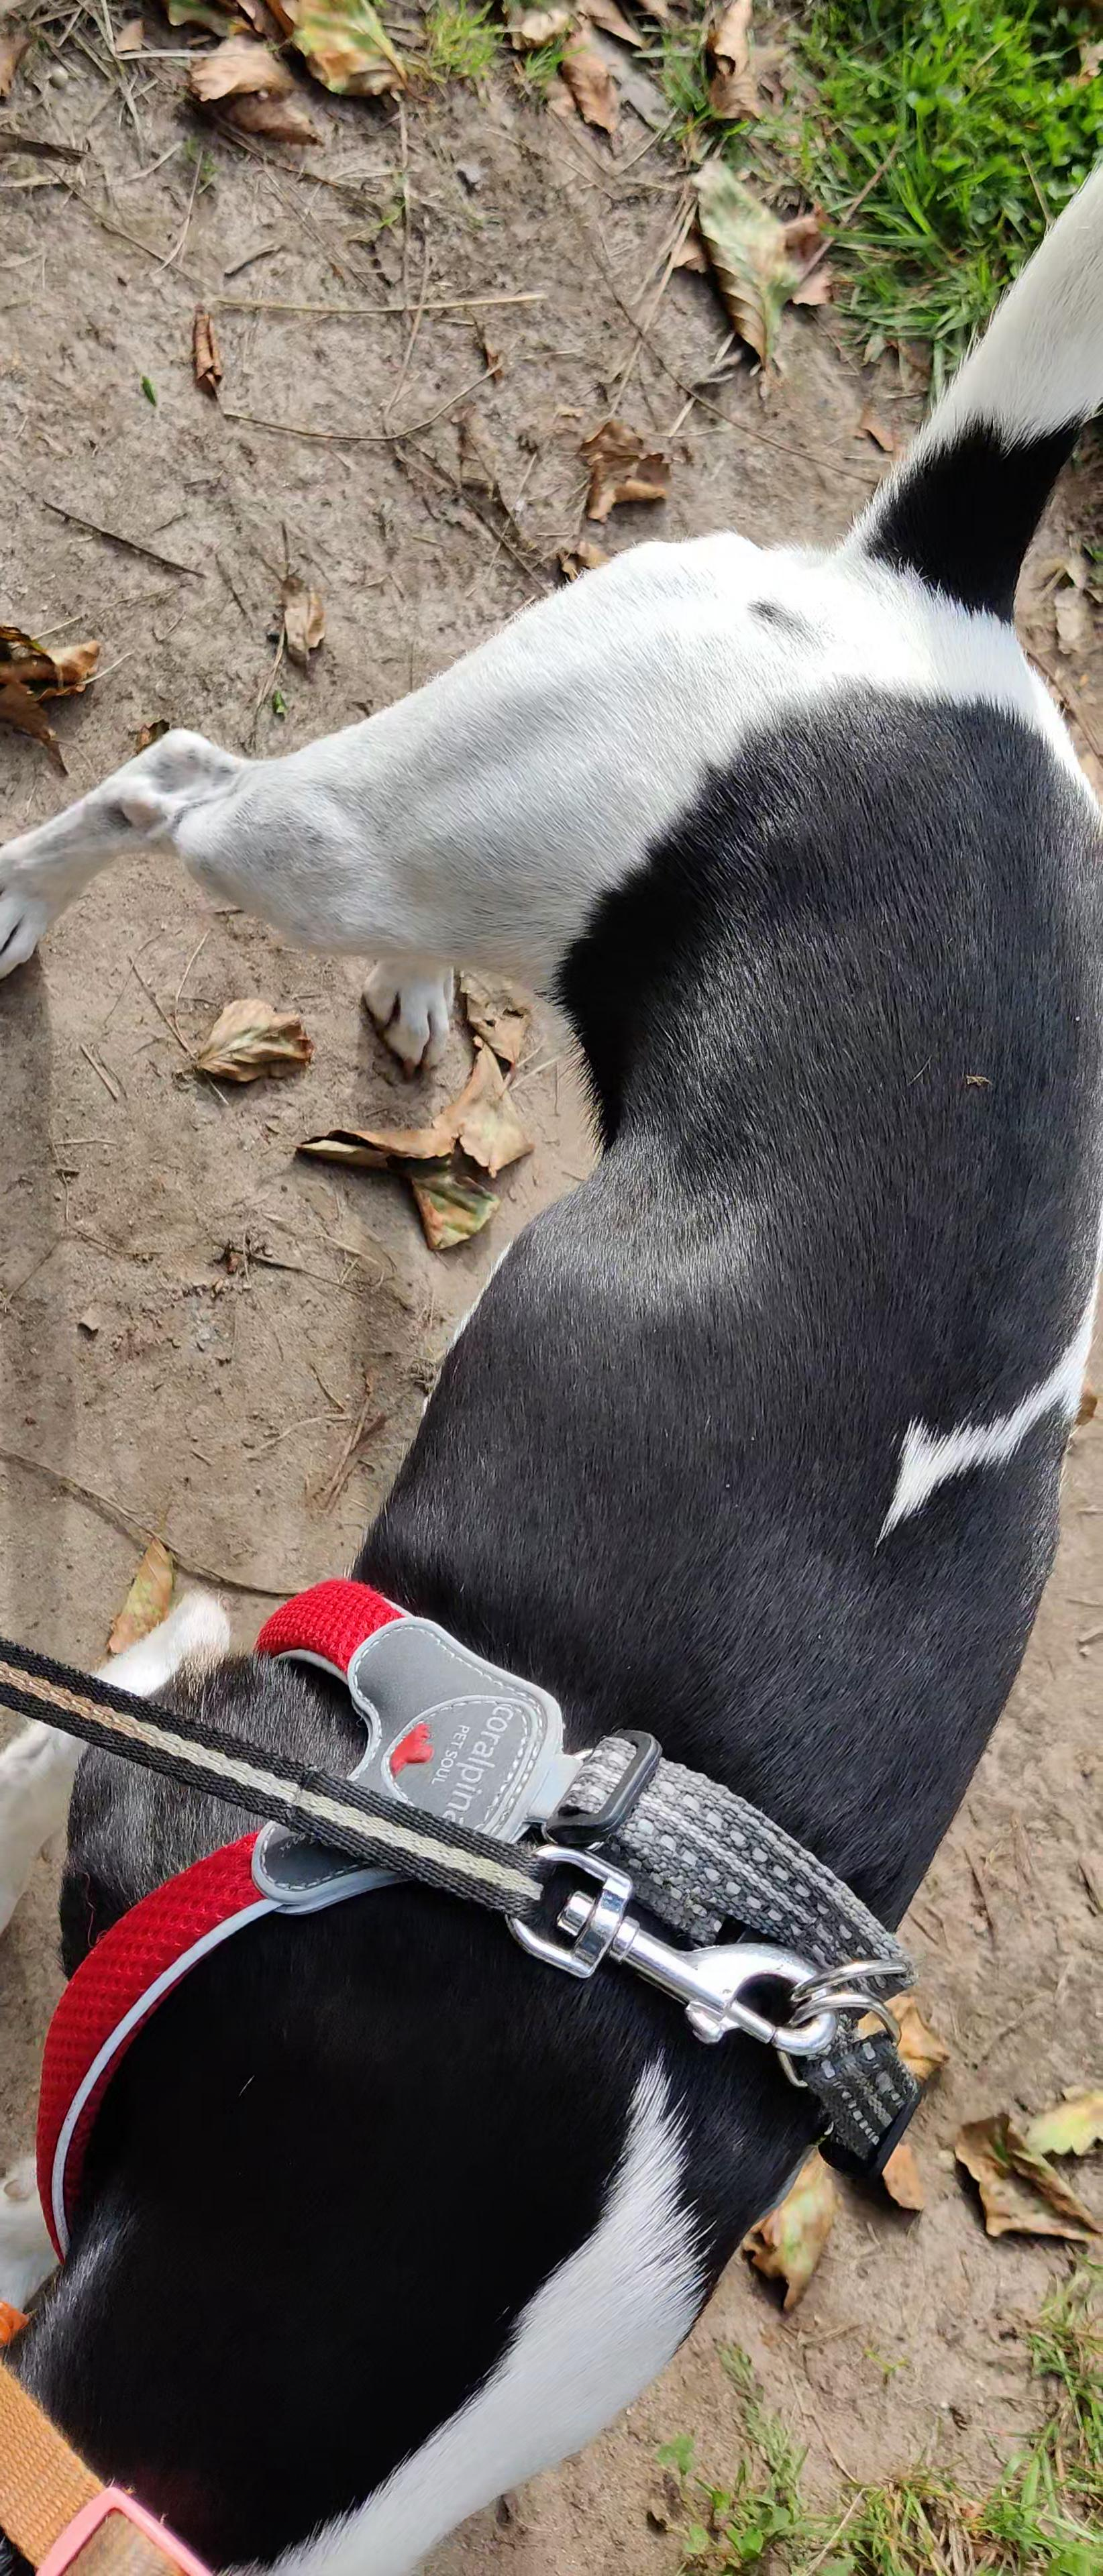Dog: (0, 117, 1103, 2576)
